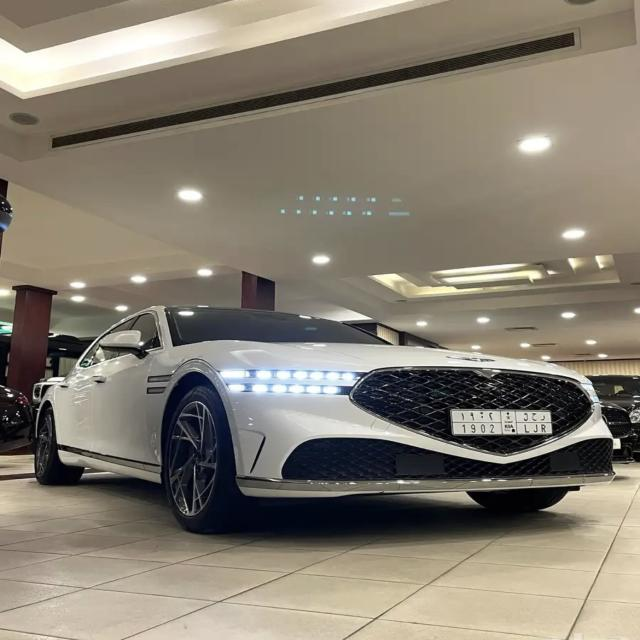license_plate: (451, 408, 552, 436)
